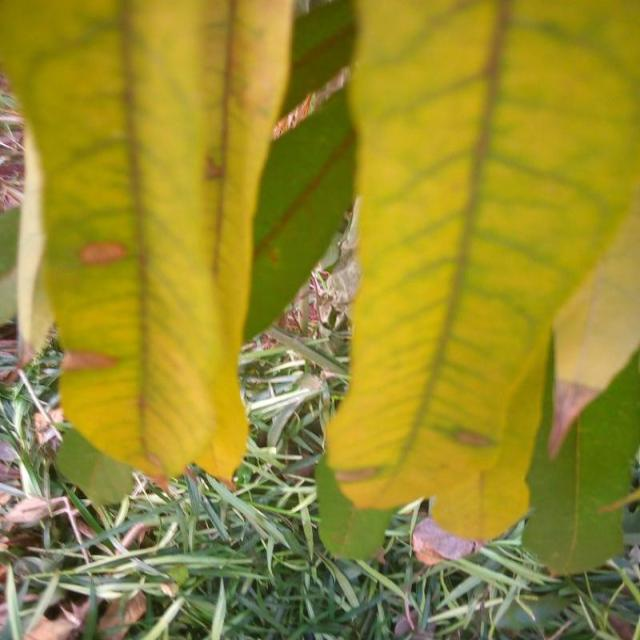cassava leaf: (318, 0, 638, 555), (1, 0, 297, 492)
